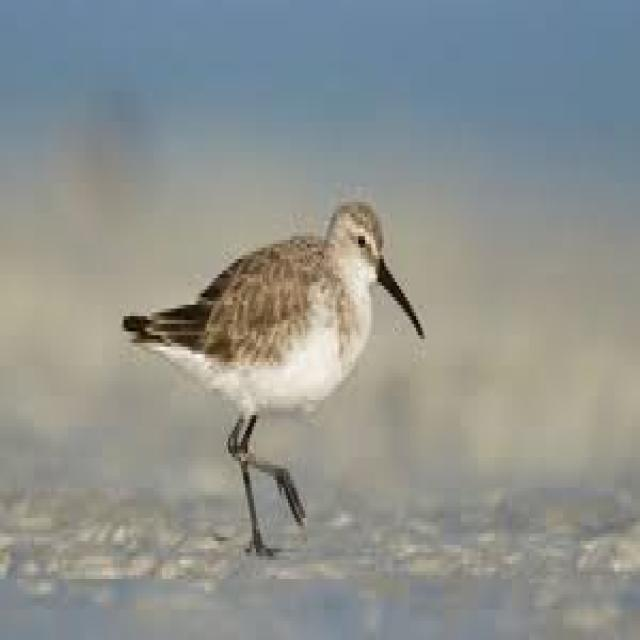Sandpiper: (123, 188, 431, 534)
